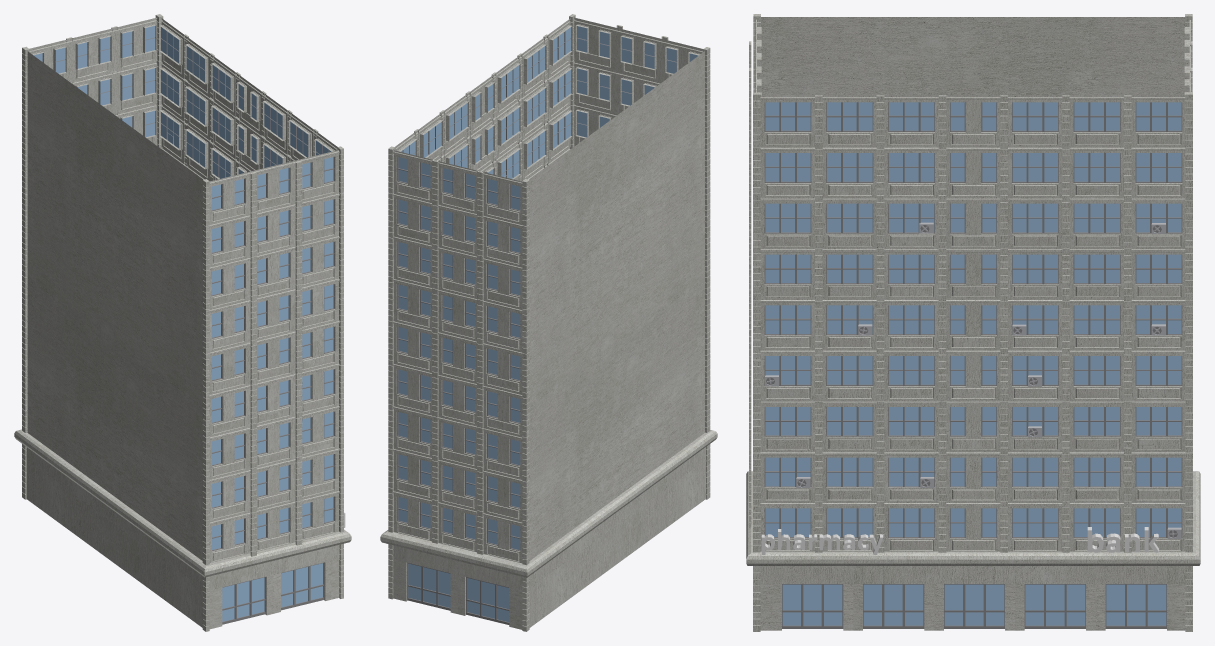
File: cityscene2_03.gltf
The picture shows the model from 3 angles, left to right: view 1: azimuth 30°, elevation 25°; view 2: azimuth 150°, elevation 25°; view 3: azimuth 270°, elevation 25°; orthographic projection. The views are drawn at different scales.
Visible parts, largest first — view 1: cityscene2_03; view 2: cityscene2_03; view 3: cityscene2_03.
Part boxes in pixels (left/top/right/bottom): cityscene2_03: left=14, top=14, right=351, bottom=631; cityscene2_03: left=380, top=14, right=717, bottom=631; cityscene2_03: left=746, top=14, right=1200, bottom=631.
Bounding box in the file's own units: 6.28 × 18.32 × 14.04.
5 materials, 1 textured.
